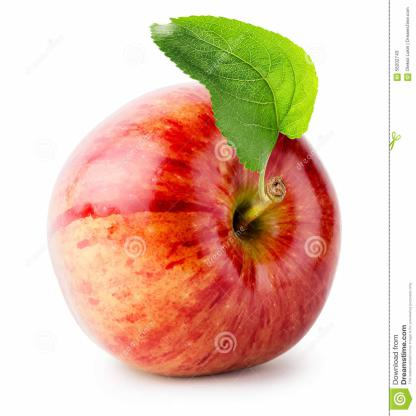Apple leaf: (148, 12, 326, 173)
